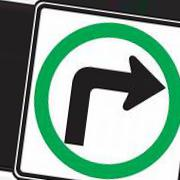right: (32, 21, 180, 179)
